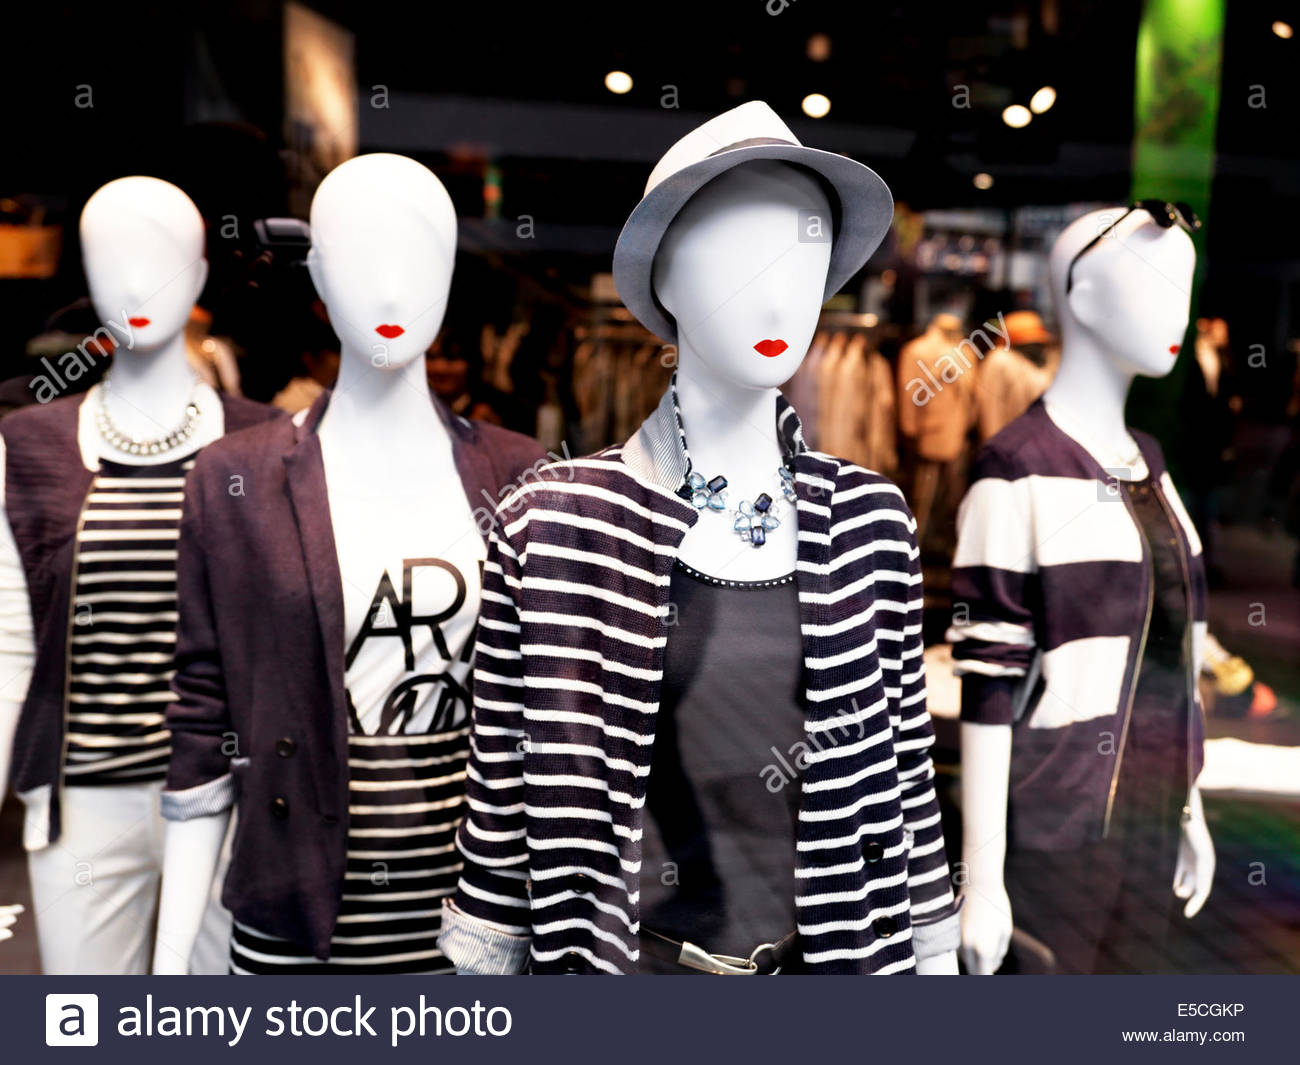person-like: (425, 93, 965, 974), (145, 138, 577, 974), (4, 161, 282, 983), (938, 193, 1224, 972)
